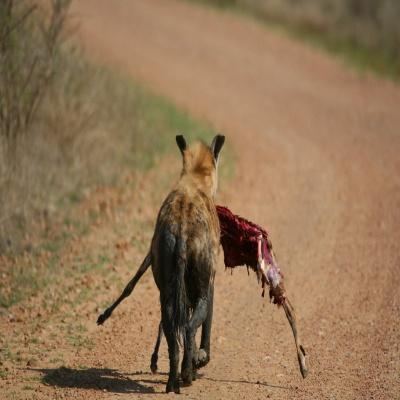hyenas: (119, 120, 239, 386)
